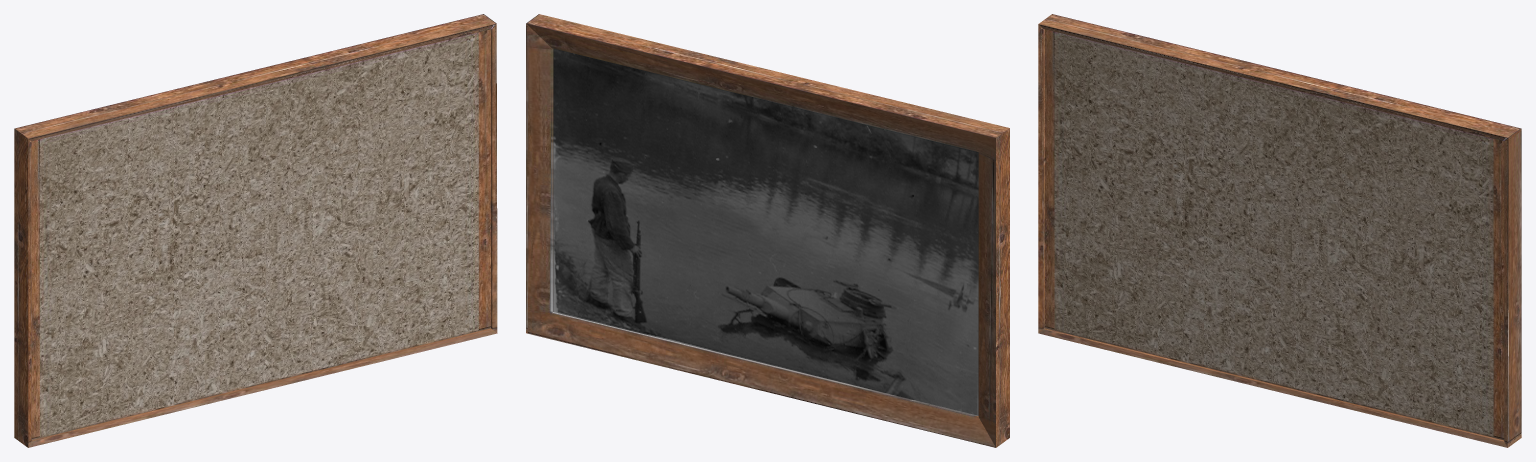
Rendered from photo_frame_ww2_4.fbx.
3 views of the same model, side by side, from view 1: azimuth 30°, elevation 25°; view 2: azimuth 150°, elevation 25°; view 3: azimuth 330°, elevation 25° (orthographic).
Visible parts, largest first — view 1: Box001; view 2: Box001; view 3: Box001.
Boxes of the visible parts, x1,y1,x2,y2 form: Box001: (14, 14, 497, 447); Box001: (526, 14, 1009, 447); Box001: (1038, 14, 1521, 447).
Bounding box in the file's own units: 15.03 × 9.47 × 0.7599.
1 material, 1 textured.
